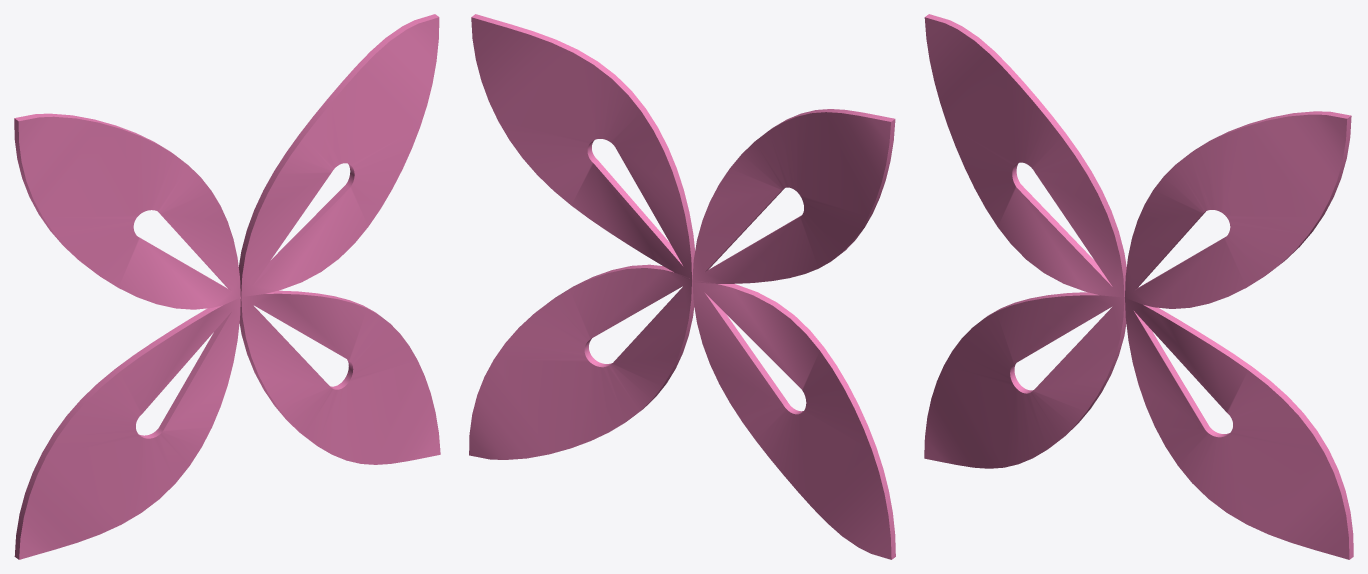
The model's file is animated_butterfly.fbx.
3 renders of one model, left to right at view 1: azimuth 30°, elevation 25°; view 2: azimuth 150°, elevation 25°; view 3: azimuth 330°, elevation 25°, orthographic.
Visible parts, largest first — view 1: HAlF_BUTTERFLY, HAlF_BUTTERFLY_1; view 2: HAlF_BUTTERFLY_1, HAlF_BUTTERFLY; view 3: HAlF_BUTTERFLY_1, HAlF_BUTTERFLY.
Boxes of the visible parts, x1,y1,x2,y2 form: HAlF_BUTTERFLY: (14,113,240,559); HAlF_BUTTERFLY_1: (238,14,440,464); HAlF_BUTTERFLY_1: (469,14,694,459); HAlF_BUTTERFLY: (692,109,895,559); HAlF_BUTTERFLY_1: (1125,111,1353,559); HAlF_BUTTERFLY: (924,14,1126,468).
Size of the model in its own units: 895 by 892 by 90.99.
